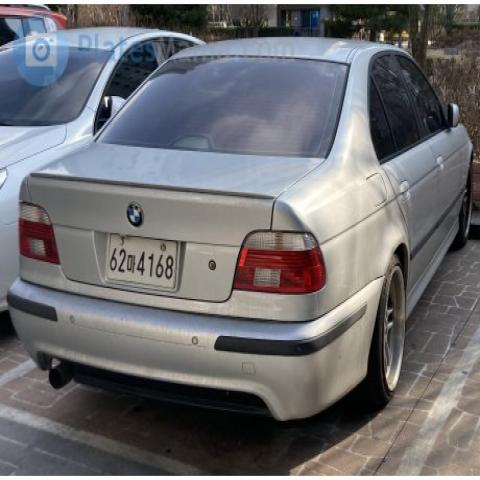LP: (90, 224, 190, 297)
